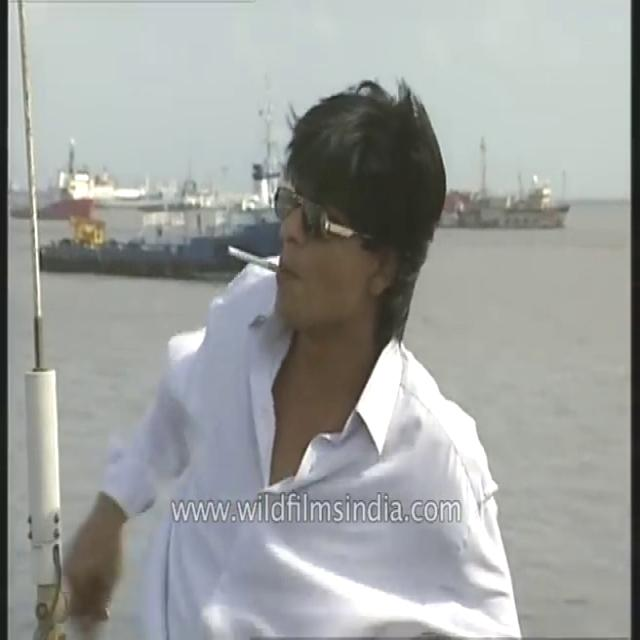Smooking: (210, 244, 294, 274)
